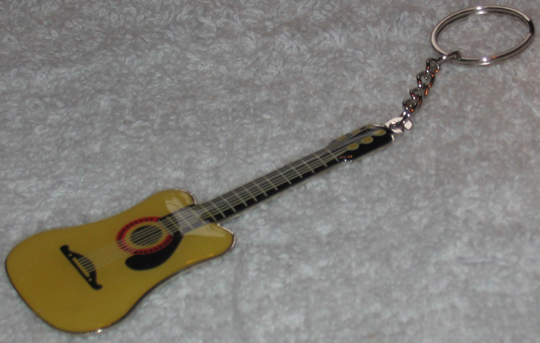guitar: (7, 119, 403, 338)
